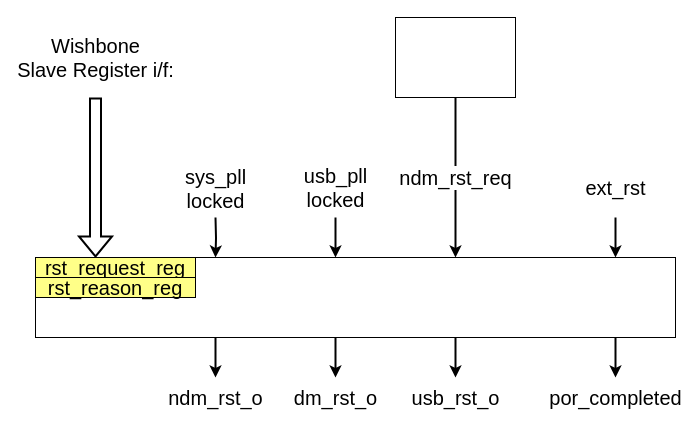
The diagram is 699 pixels wide and 427 high, and some of its shapes have lost their labels. The shapes that lost their labels are listed below. From the top down, each one's box as (x1, y1, x2, y2) in pixels, then its label:
(394, 16, 516, 98): wb_dm (debug module)
(34, 256, 676, 338): reset_ctrl
